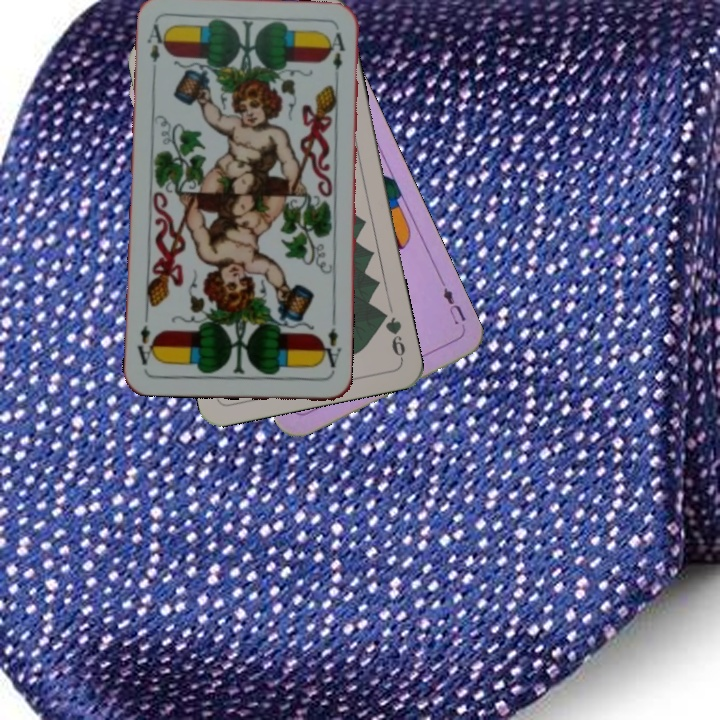EA: (316, 324, 344, 370), (143, 20, 169, 65)
EU: (437, 278, 469, 328)
G9: (376, 306, 408, 363)
